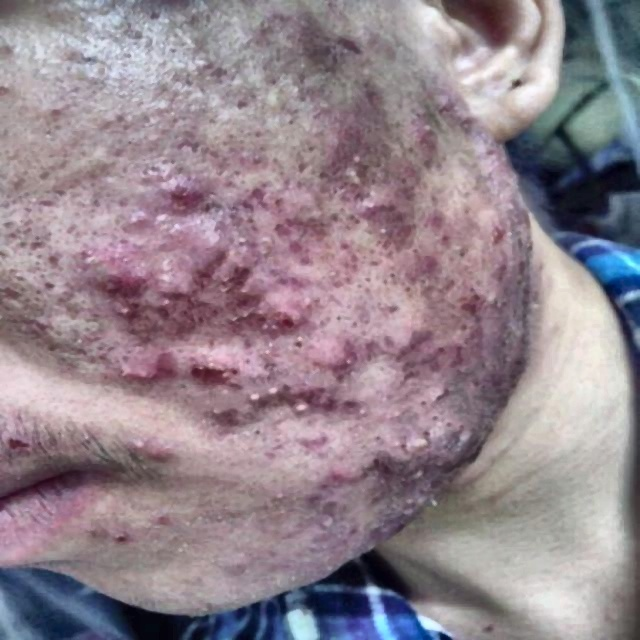nodule: (331, 60, 384, 128), (218, 175, 297, 219), (116, 352, 176, 398), (160, 175, 228, 210), (282, 218, 359, 248), (448, 289, 503, 330), (302, 126, 368, 160), (212, 252, 257, 300), (138, 239, 188, 282), (357, 331, 408, 371), (366, 28, 408, 76), (411, 342, 476, 373), (323, 456, 374, 494), (275, 183, 337, 214), (380, 152, 430, 189), (351, 517, 414, 545), (400, 248, 450, 282), (468, 209, 515, 244), (101, 259, 145, 296), (390, 488, 440, 520), (389, 308, 436, 342), (183, 226, 230, 260), (206, 399, 246, 437), (414, 209, 456, 242), (202, 350, 246, 381), (265, 290, 307, 322), (108, 300, 159, 326), (316, 29, 356, 62), (282, 392, 322, 423), (232, 145, 273, 174), (98, 527, 142, 554), (406, 118, 442, 150), (287, 247, 337, 270), (388, 429, 442, 450), (145, 277, 188, 303), (451, 424, 488, 454), (236, 378, 282, 402), (322, 384, 356, 416), (314, 528, 360, 551), (482, 252, 516, 282), (351, 175, 407, 193), (428, 378, 468, 403), (118, 209, 158, 234), (382, 465, 433, 484), (344, 196, 394, 213), (278, 15, 308, 40), (287, 433, 326, 452), (316, 342, 354, 359), (219, 302, 256, 319), (384, 212, 407, 239), (156, 442, 176, 469), (190, 56, 220, 72)
